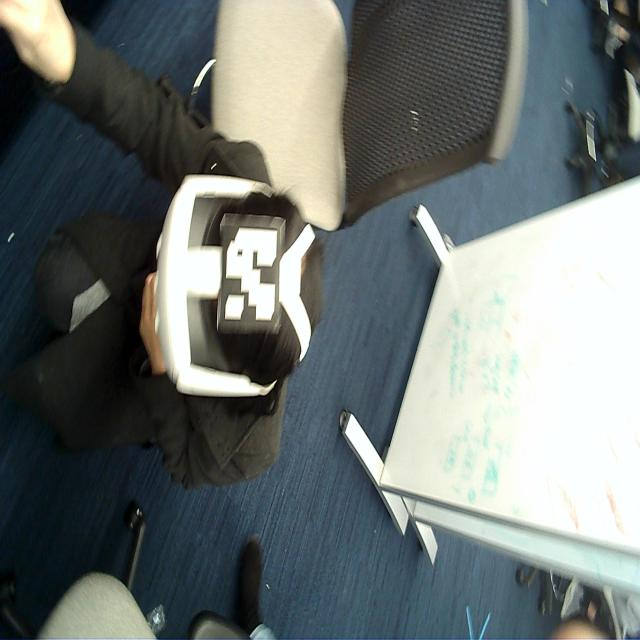Aruco Marker: (216, 210, 288, 338)
VR Headset: (152, 168, 322, 404)
